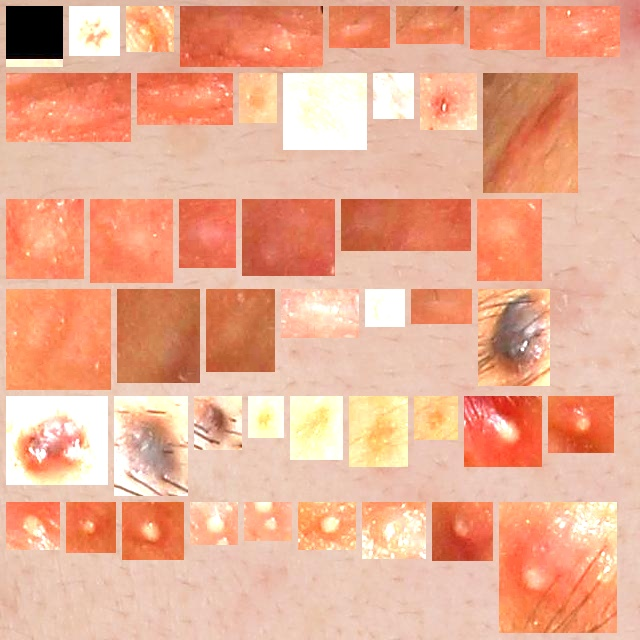hypertrophic_scar: (491, 81, 570, 185), (14, 297, 103, 382), (14, 81, 123, 134), (188, 14, 315, 59), (125, 297, 192, 375), (250, 207, 327, 268), (98, 207, 165, 275), (349, 207, 463, 243), (14, 207, 76, 271), (214, 297, 267, 364), (485, 207, 534, 273), (145, 81, 225, 117), (187, 207, 228, 260), (289, 297, 351, 330), (554, 14, 612, 49), (370, 510, 418, 551), (478, 14, 532, 42), (337, 14, 382, 40), (404, 14, 456, 36), (419, 297, 464, 316)
melasma: (291, 81, 359, 142), (357, 404, 400, 459), (14, 14, 55, 59), (298, 404, 335, 452), (77, 14, 112, 48), (422, 404, 450, 432), (247, 81, 269, 115), (256, 404, 276, 430)
nevus: (14, 404, 100, 477), (122, 404, 180, 488), (486, 297, 542, 378), (428, 81, 469, 122), (202, 404, 234, 442)
pustule: (507, 510, 609, 625), (472, 404, 534, 459), (556, 404, 606, 445), (440, 510, 485, 553), (130, 510, 176, 552), (306, 510, 348, 542), (14, 510, 52, 542), (74, 510, 108, 545), (134, 14, 166, 44), (198, 510, 230, 537), (252, 510, 284, 533), (373, 297, 397, 319)
